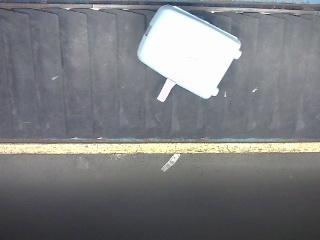Suitcase: (139, 5, 242, 102)
